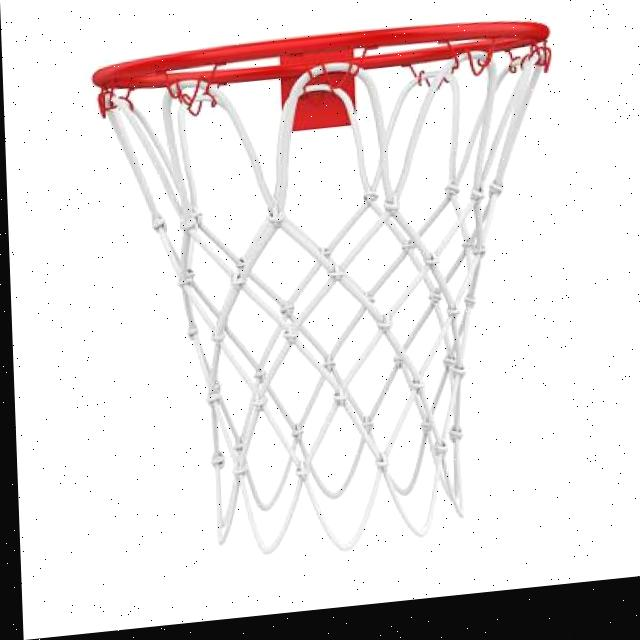hoop: (92, 9, 569, 574)
